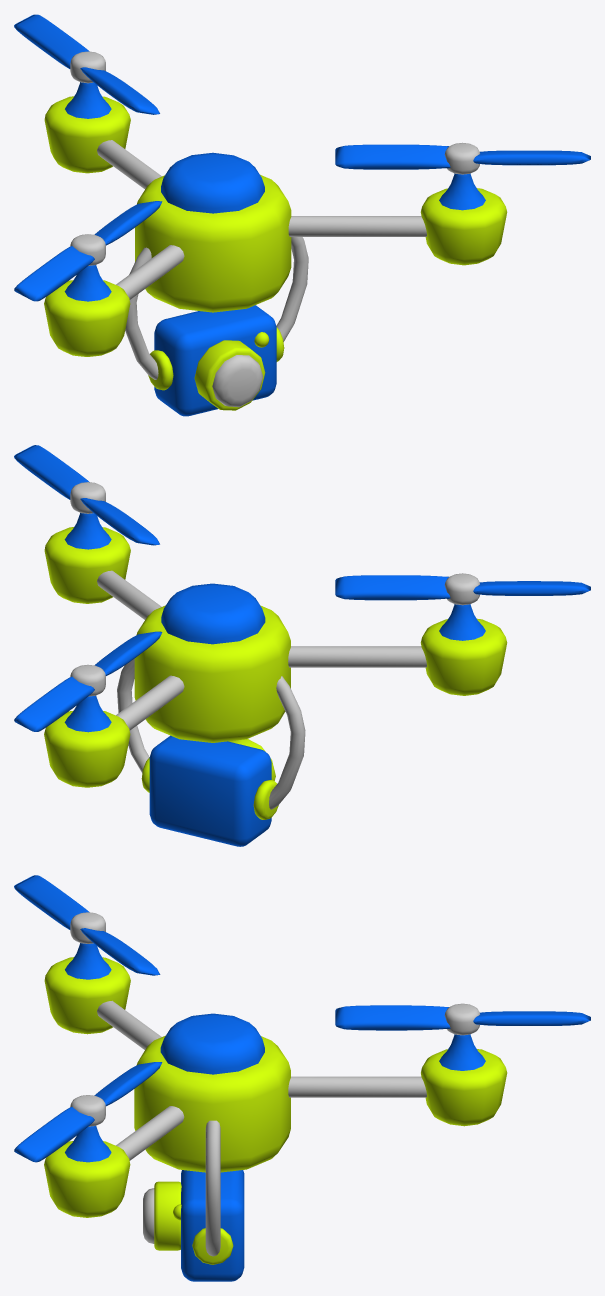
The model's file is drone.fbx.
The picture shows the model from 3 angles, top to bottom: view 1: azimuth 30°, elevation 25°; view 2: azimuth 150°, elevation 25°; view 3: azimuth 270°, elevation 25°; orthographic projection.
Visible parts, largest first — view 1: BODy, Null; view 2: BODy, Null; view 3: BODy, Null.
Part boxes in pixels (box(x1,y1,x2,y2)): BODy: box(44, 82, 507, 416); Null: box(14, 14, 590, 301); BODy: box(44, 513, 507, 846); Null: box(14, 445, 590, 731); BODy: box(44, 943, 507, 1281); Null: box(14, 875, 590, 1162).
Bounding box in the file's own units: 638 × 267 × 554.
